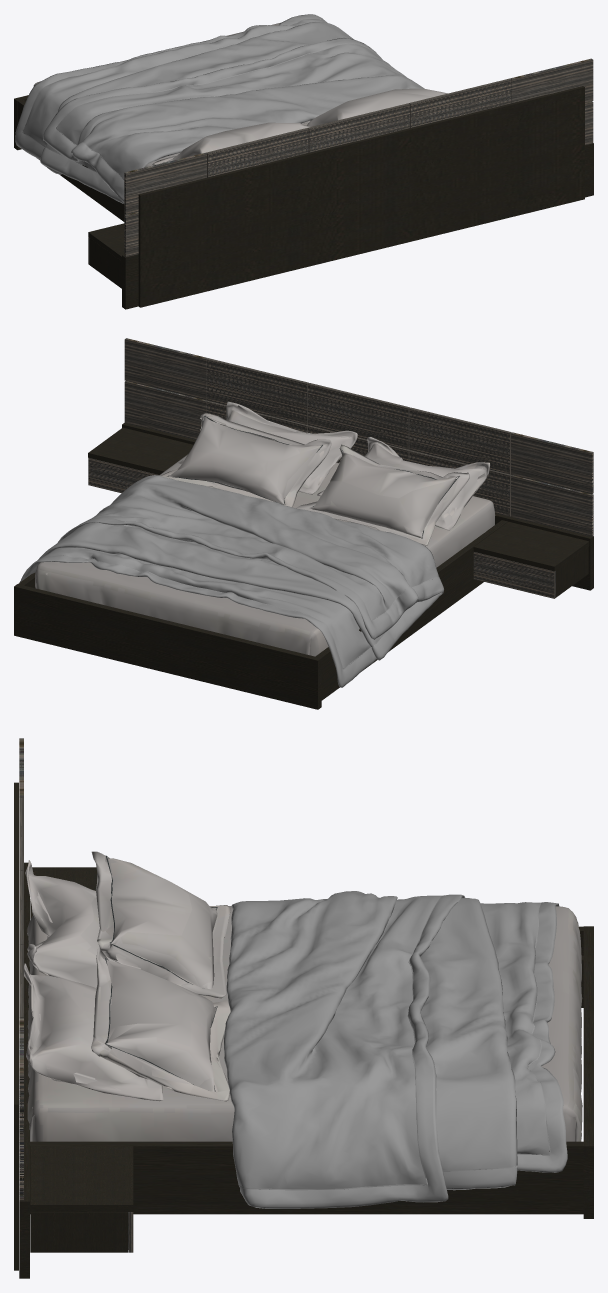
The model's file is fit-bed-primary.glb.
3 renders of one model, top to bottom at view 1: azimuth 30°, elevation 25°; view 2: azimuth 150°, elevation 25°; view 3: azimuth 270°, elevation 25°, orthographic. The views are drawn at different scales.
Bounding box in the file's own units: 2918 × 809 × 2110.
Materials: 7 (6 with a texture image).
